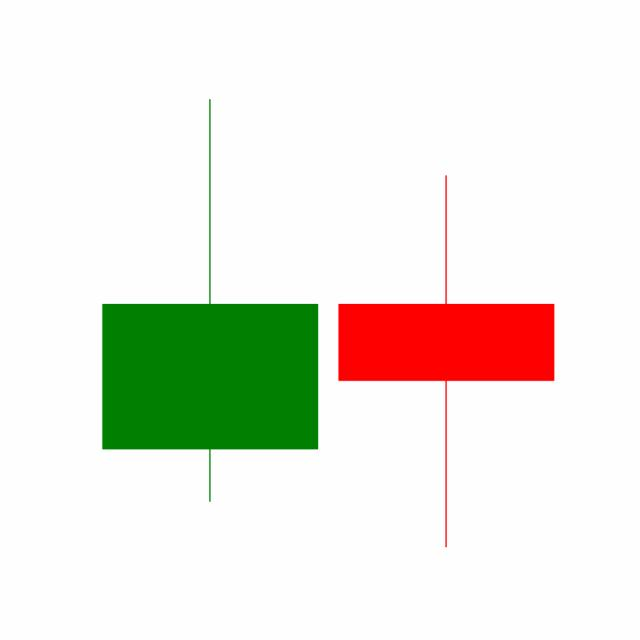Spinning Top: (327, 170, 565, 551)
